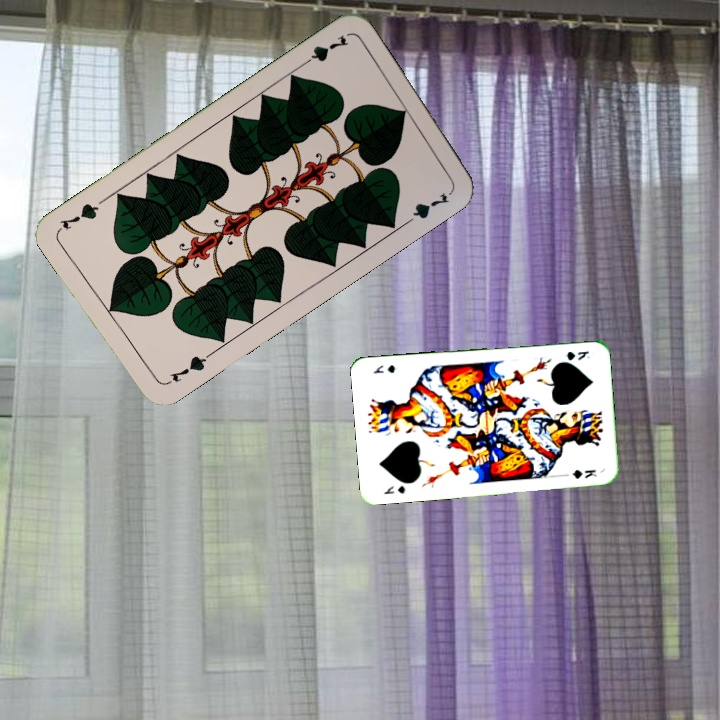G7: (296, 31, 351, 70), (165, 349, 213, 385)
GK: (561, 347, 592, 363), (380, 481, 408, 497)
